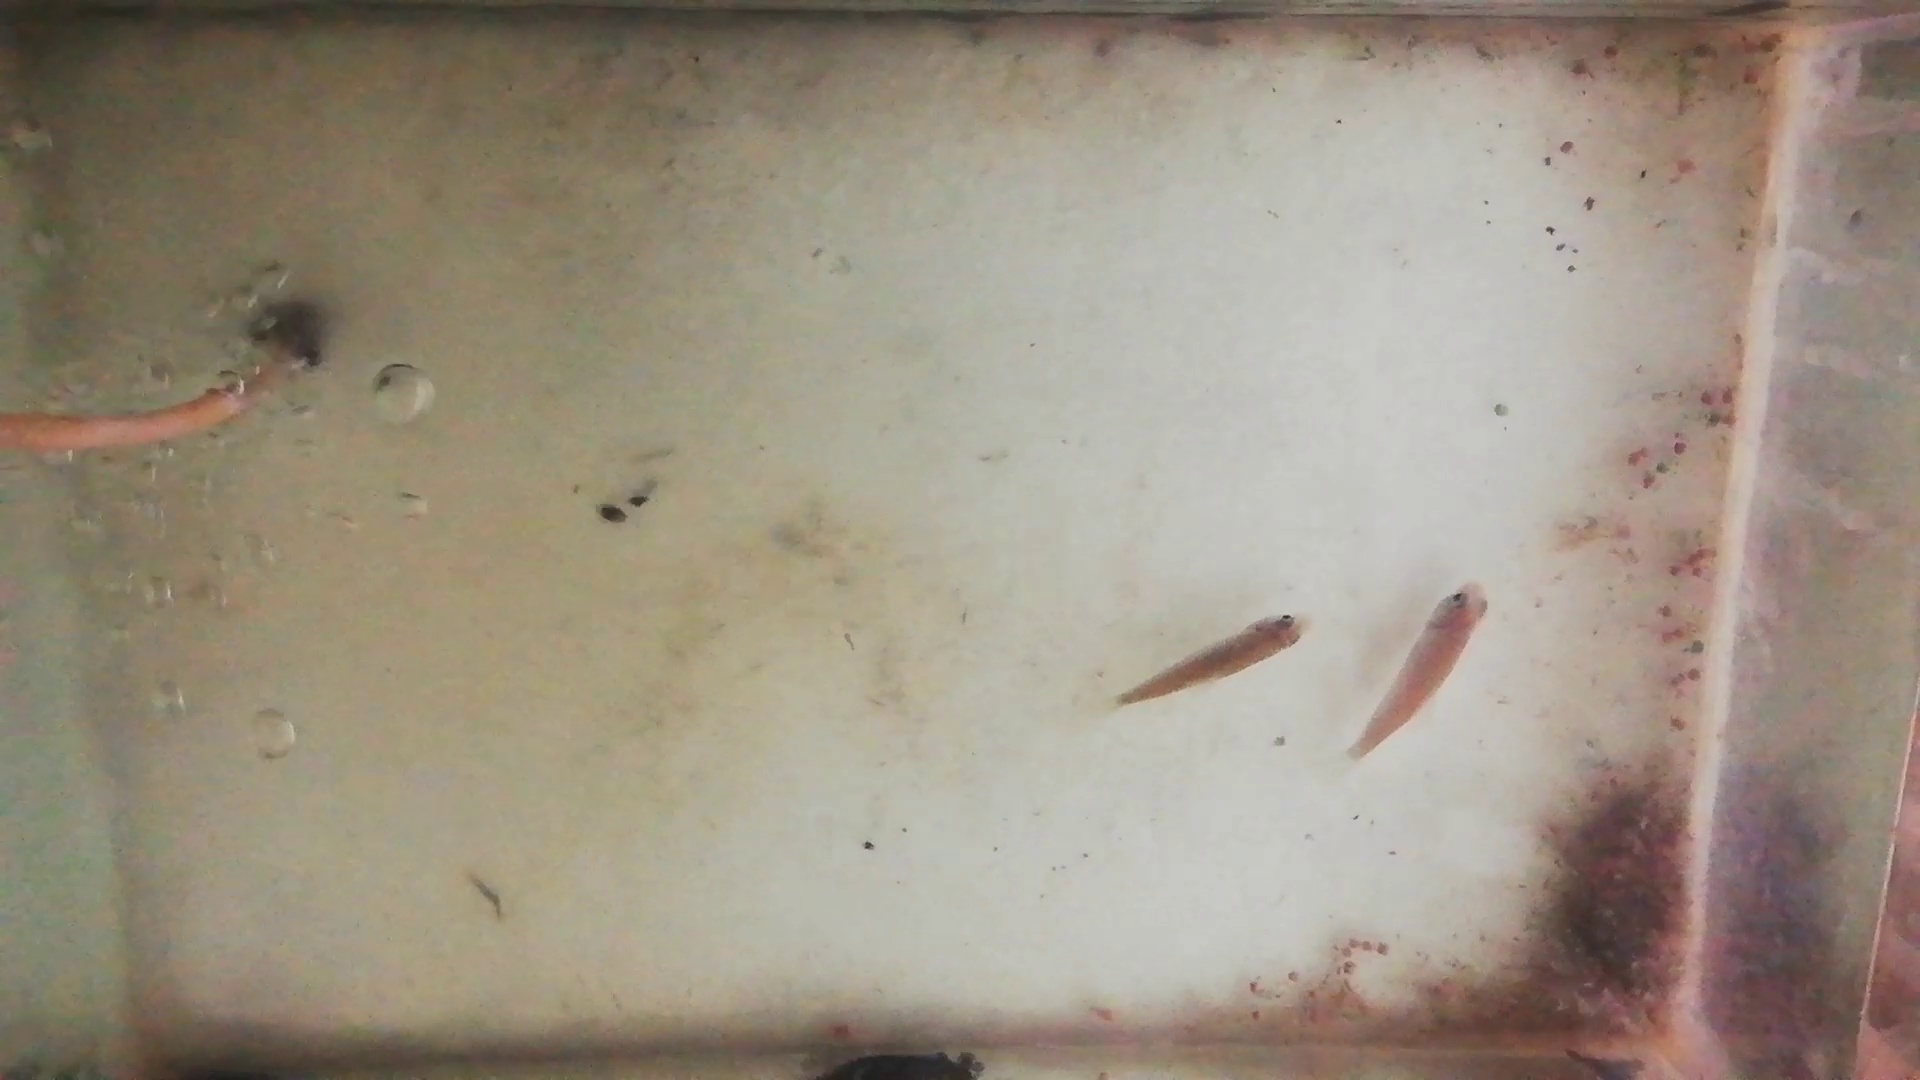fish: (1354, 578, 1491, 762), (1120, 616, 1313, 705)
